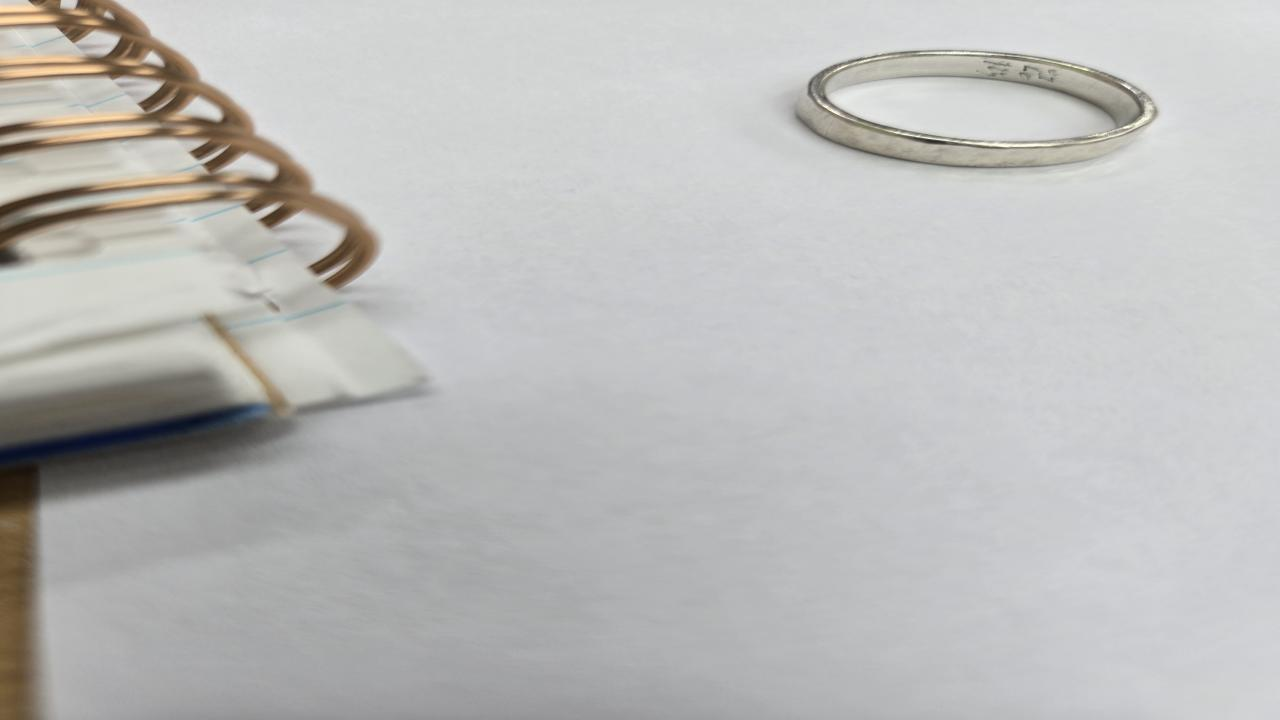ring: (801, 49, 1159, 169)
